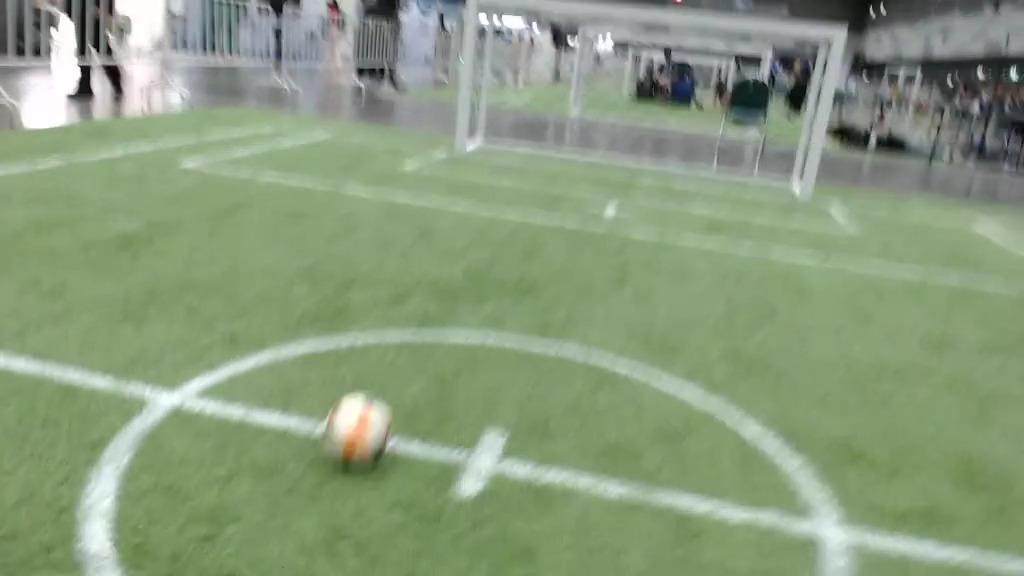ball: (324, 393, 391, 470)
